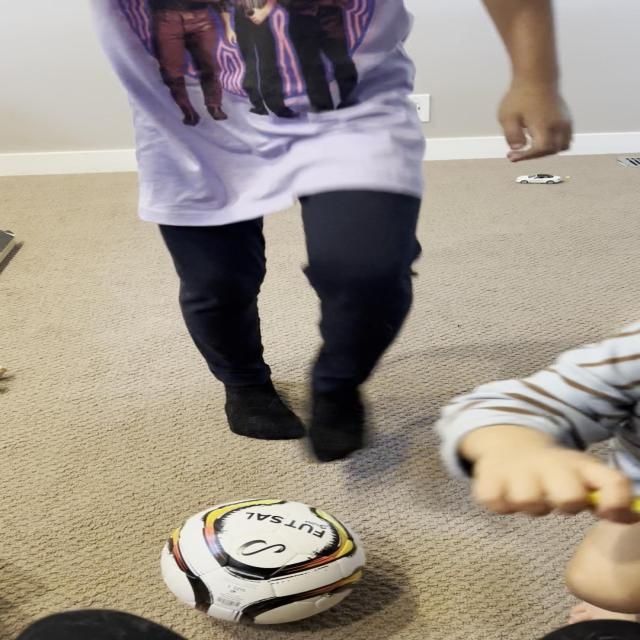Soccer Ball: (160, 499, 366, 626)
